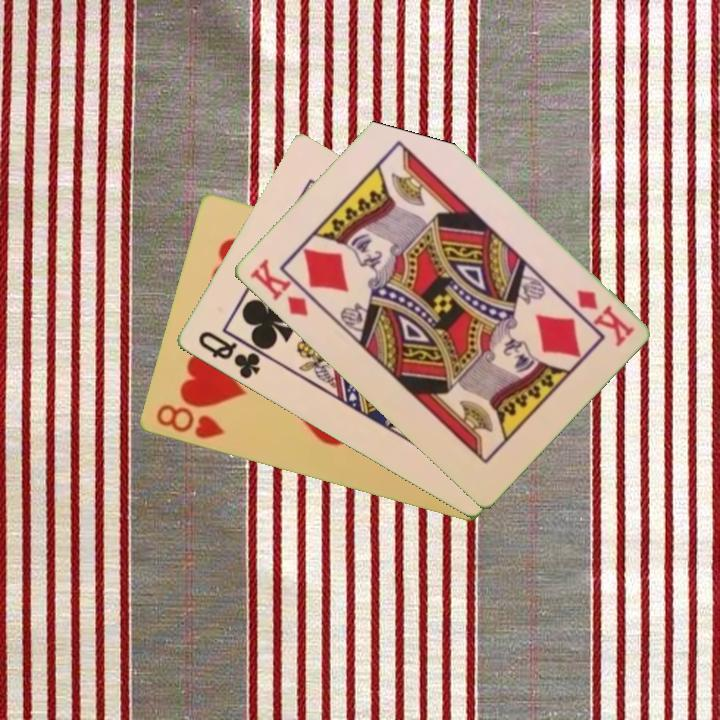8h: (152, 401, 227, 442)
Kd: (245, 255, 322, 320), (572, 286, 637, 350)
Qc: (194, 327, 271, 383)
